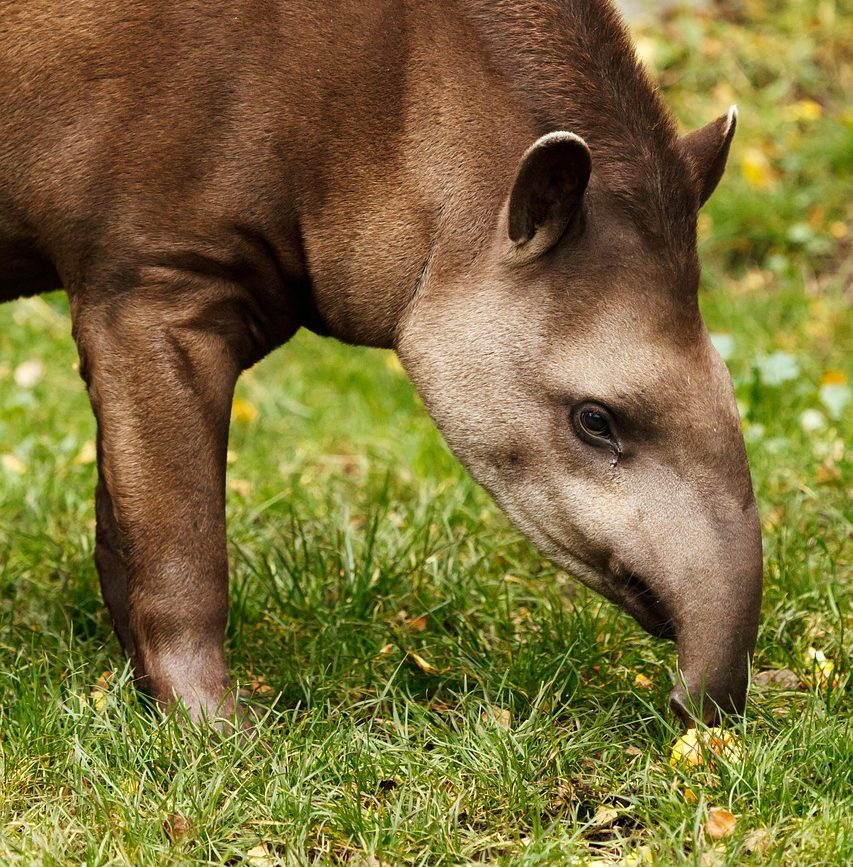Anta: (13, 2, 771, 736)
